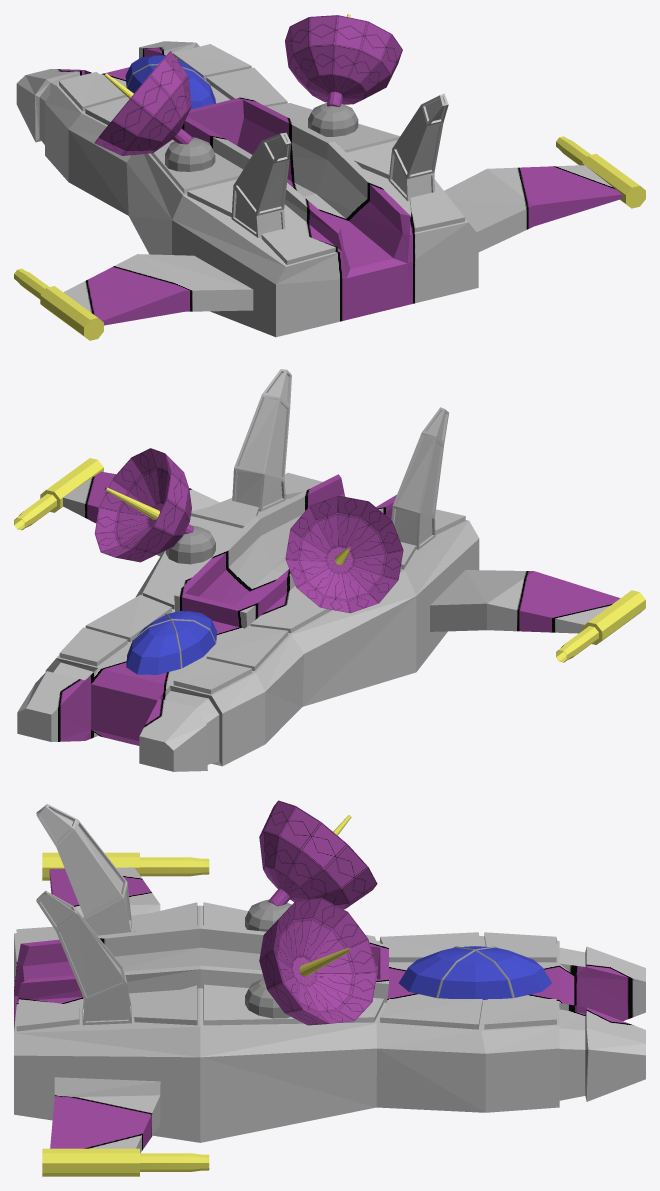
File: Ship63B.FBX
3 views of the same model, one above another, from view 1: azimuth 30°, elevation 25°; view 2: azimuth 150°, elevation 25°; view 3: azimuth 270°, elevation 25° (orthographic). The views are drawn at different scales.
Parts seen in each view (by area): view 1: Ship63B; view 2: Ship63B; view 3: Ship63B.
Boxes of the visible parts, x1,y1,x2,y2 form: Ship63B: (14,14,645,340); Ship63B: (14,369,645,771); Ship63B: (14,800,645,1176).
Bounding box in the file's own units: 51.91 × 17.97 × 45.19.
9 materials, 4 textured.
